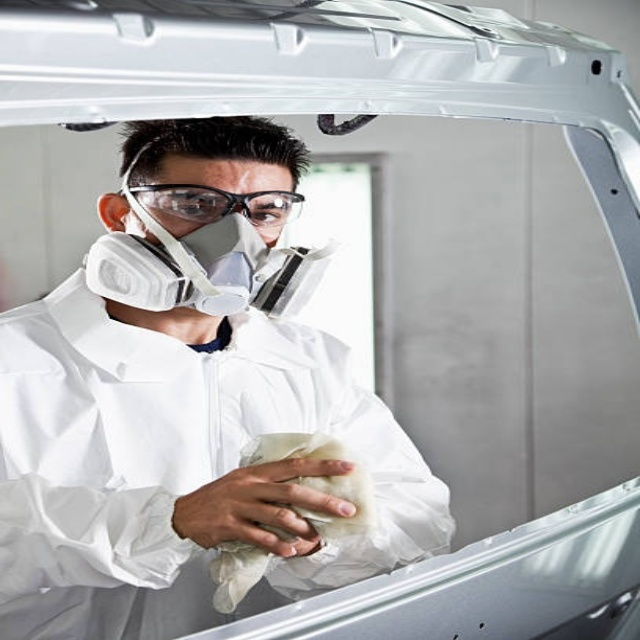Gafas: (124, 182, 307, 231)
Mascara: (80, 205, 342, 326)
Sin_guantes: (174, 455, 363, 559)
Sin_mascara: (258, 233, 281, 248)
